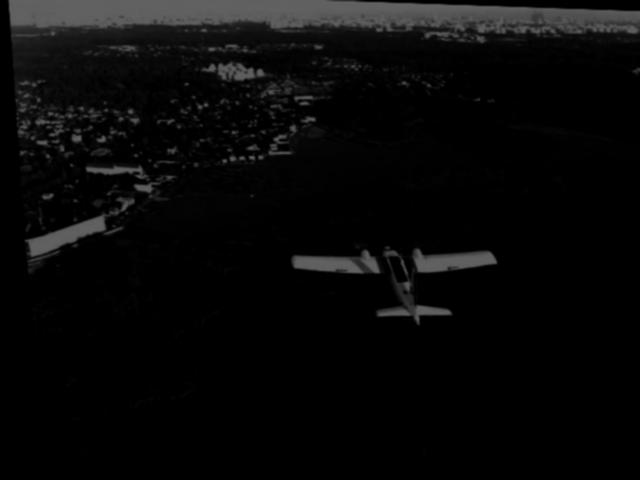hedef: (281, 236, 503, 331)
